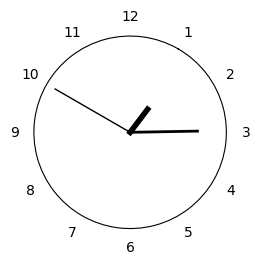12: (122, 9, 139, 23)
circle: (34, 36, 227, 229)
hours: (127, 106, 151, 135)
minutes: (132, 129, 200, 135)
seconds: (54, 88, 128, 131)
